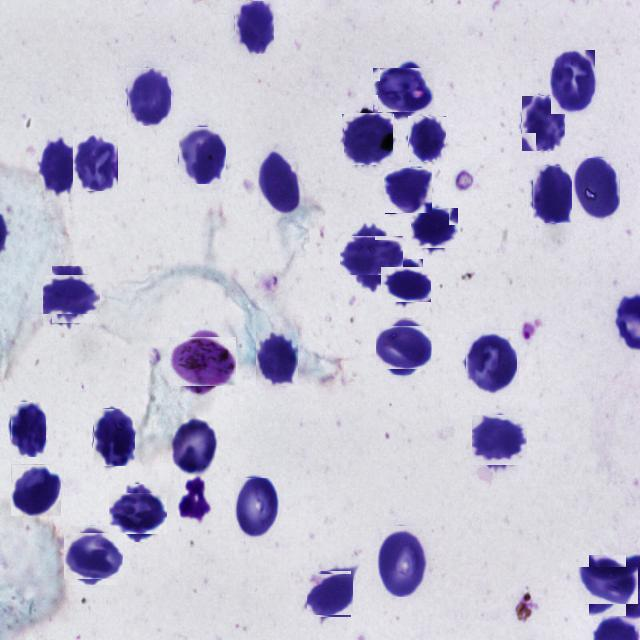gametocyte: (174, 332, 232, 391)
red blood cell: (377, 526, 427, 597), (465, 331, 517, 395), (572, 158, 620, 223), (234, 478, 279, 541), (551, 50, 595, 114), (67, 529, 120, 582), (170, 419, 219, 476), (178, 126, 226, 184), (473, 414, 525, 467), (376, 64, 429, 116), (347, 230, 398, 282), (11, 464, 61, 516), (73, 134, 118, 191), (260, 150, 300, 214), (127, 68, 171, 126), (342, 114, 393, 164), (379, 322, 429, 372), (113, 488, 163, 538), (521, 95, 565, 151), (93, 408, 135, 466), (583, 561, 632, 610), (532, 165, 572, 223), (48, 270, 96, 318), (384, 166, 432, 214), (256, 332, 298, 386), (234, 0, 274, 54), (41, 140, 77, 198), (10, 401, 46, 457), (412, 206, 456, 250), (308, 572, 352, 616), (384, 263, 427, 306), (408, 116, 446, 162)
